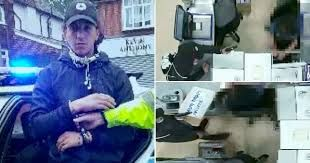gun: (216, 37, 239, 60), (172, 105, 191, 129)
